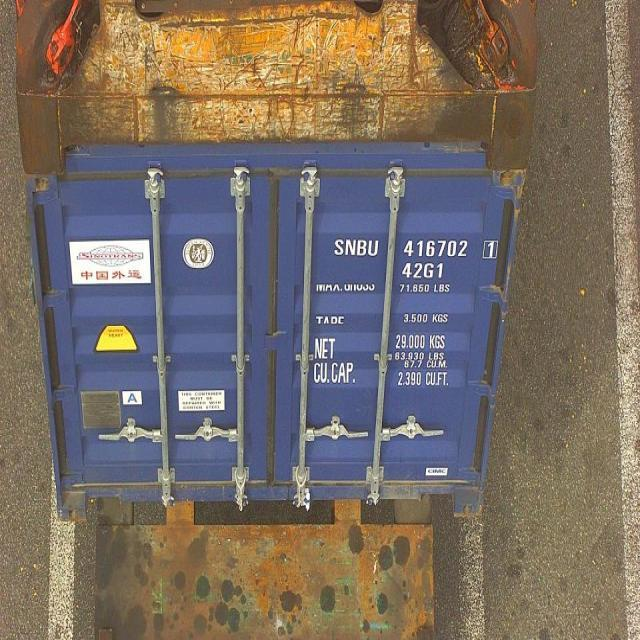ISO: (400, 260, 444, 278)
container_number: (338, 238, 488, 260)
